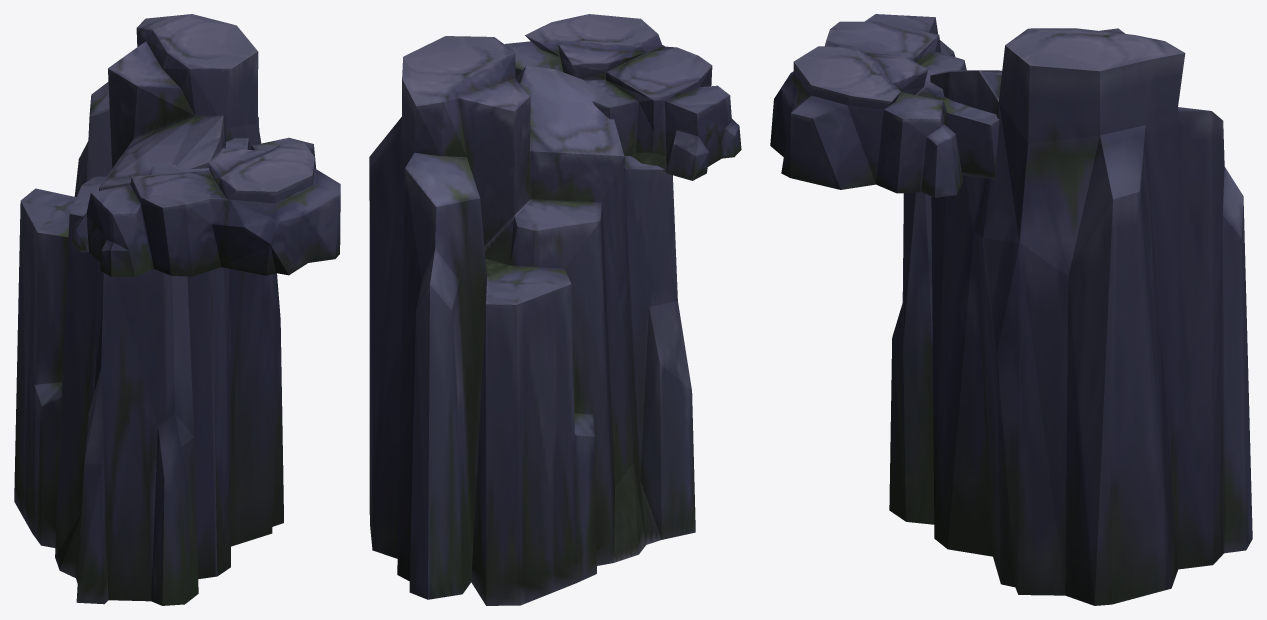
Rendered from Area07_11.fbx.
3 renders of one model, left to right at view 1: azimuth 30°, elevation 25°; view 2: azimuth 150°, elevation 25°; view 3: azimuth 270°, elevation 25°, orthographic. The views are drawn at different scales.
Parts seen in each view (by area): view 1: Area07_11; view 2: Area07_11; view 3: Area07_11.
Part boxes in pixels (x1,y1,x2,y2): Area07_11: (14, 14, 340, 605); Area07_11: (369, 14, 741, 605); Area07_11: (770, 14, 1252, 605).
Size of the model in its own units: 1176 by 1999 by 1686.
